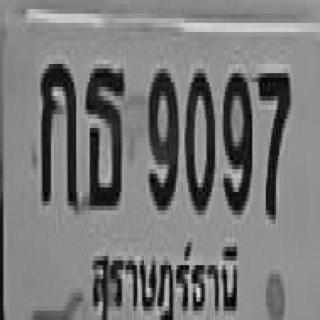A01: (39, 57, 74, 203)
A24: (85, 59, 124, 206)
N00: (185, 64, 213, 210)
N07: (257, 69, 290, 215)
N09: (147, 64, 176, 206), (222, 69, 251, 210)
P67: (85, 235, 244, 320)
